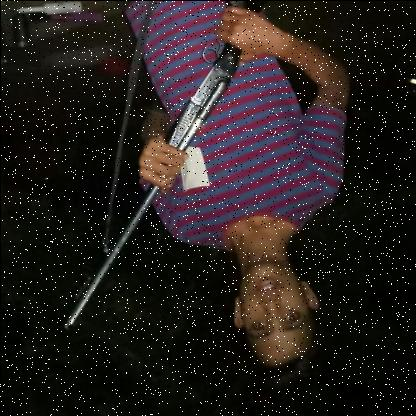rifle: (58, 1, 267, 333)
